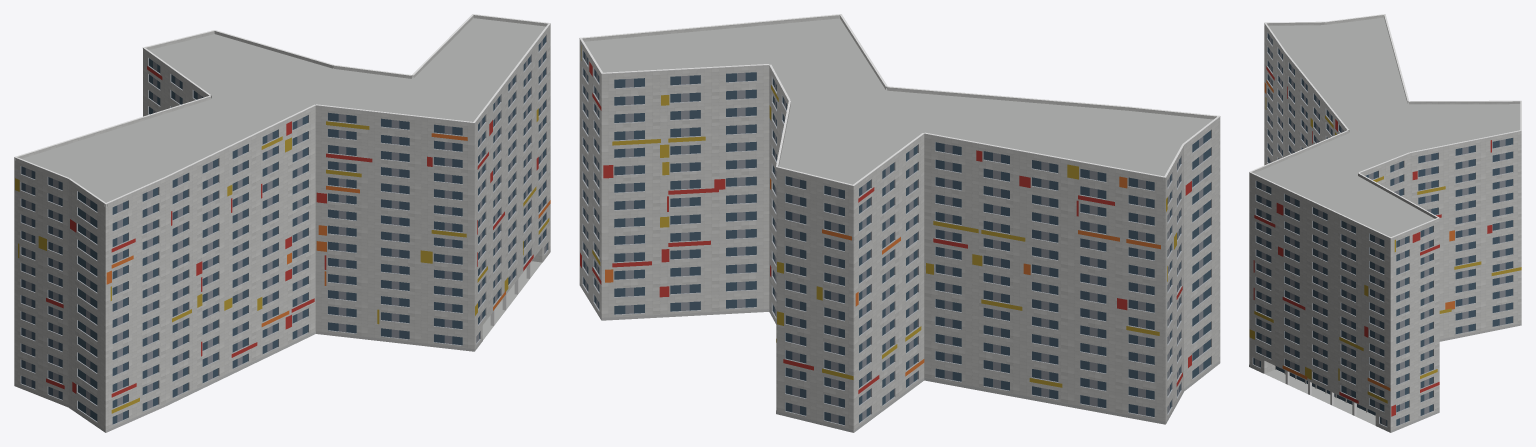
3 renders of one model, left to right at view 1: azimuth 30°, elevation 25°; view 2: azimuth 150°, elevation 25°; view 3: azimuth 270°, elevation 25°, orthographic. The views are drawn at different scales.
Parts seen in each view (by area): view 1: blueMirWest__wall, blueMirWest__roof, blueMirWest__glass, blueMirWest__frame, blueMirWest__wall2, blueMirWest__parapet, blueMirWest__trim, blueMirWest__accentA, blueMirWest__accentB, blueMirWest__base, blueMirWest__accentC; view 2: blueMirWest__wall, blueMirWest__roof, blueMirWest__glass, blueMirWest__frame, blueMirWest__wall2, blueMirWest__parapet, blueMirWest__trim, blueMirWest__accentB, blueMirWest__accentA, blueMirWest__base, blueMirWest__accentC; view 3: blueMirWest__wall, blueMirWest__roof, blueMirWest__glass, blueMirWest__frame, blueMirWest__wall2, blueMirWest__parapet, blueMirWest__trim, blueMirWest__accentB, blueMirWest__accentA, blueMirWest__base, blueMirWest__accentC.
Boxes of the visible parts, bbox=[...] form: blueMirWest__wall: bbox=[14, 26, 550, 432]; blueMirWest__roof: bbox=[22, 18, 545, 339]; blueMirWest__glass: bbox=[21, 36, 547, 424]; blueMirWest__frame: bbox=[25, 40, 546, 422]; blueMirWest__wall2: bbox=[20, 34, 548, 424]; blueMirWest__parapet: bbox=[14, 15, 550, 206]; blueMirWest__trim: bbox=[14, 14, 550, 204]; blueMirWest__accentA: bbox=[46, 66, 538, 397]; blueMirWest__accentB: bbox=[15, 108, 549, 413]; blueMirWest__base: bbox=[14, 250, 550, 432]; blueMirWest__accentC: bbox=[106, 133, 550, 326]; blueMirWest__wall: bbox=[579, 41, 1220, 432]; blueMirWest__roof: bbox=[584, 18, 1213, 184]; blueMirWest__glass: bbox=[583, 51, 1210, 425]; blueMirWest__frame: bbox=[585, 54, 1203, 423]; blueMirWest__wall2: bbox=[582, 49, 1211, 425]; blueMirWest__parapet: bbox=[579, 15, 1220, 188]; blueMirWest__trim: bbox=[579, 14, 1220, 186]; blueMirWest__accentB: bbox=[581, 45, 1176, 387]; blueMirWest__accentA: bbox=[580, 61, 1191, 393]; blueMirWest__base: bbox=[579, 283, 1220, 432]; blueMirWest__accentC: bbox=[605, 176, 1160, 376]; blueMirWest__wall: bbox=[1249, 25, 1521, 432]; blueMirWest__roof: bbox=[1254, 17, 1520, 425]; blueMirWest__glass: bbox=[1253, 33, 1512, 426]; blueMirWest__frame: bbox=[1255, 36, 1505, 425]; blueMirWest__wall2: bbox=[1252, 32, 1513, 426]; blueMirWest__parapet: bbox=[1249, 15, 1521, 240]; blueMirWest__trim: bbox=[1249, 14, 1521, 238]; blueMirWest__accentB: bbox=[1249, 97, 1521, 403]; blueMirWest__accentA: bbox=[1253, 66, 1492, 416]; blueMirWest__base: bbox=[1249, 323, 1521, 432]; blueMirWest__accentC: bbox=[1264, 80, 1454, 390].
Size of the model in its own units: 109 by 44 by 55.88.
13 materials, 2 textured.
